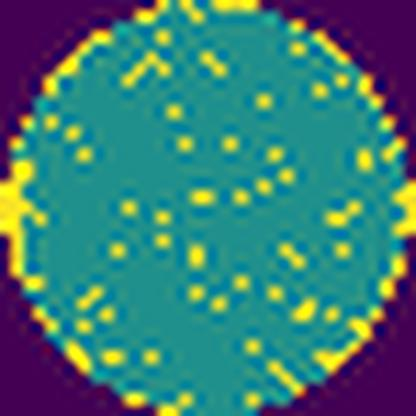Edge-Loc: (0, 154, 52, 294), (389, 174, 416, 236)
